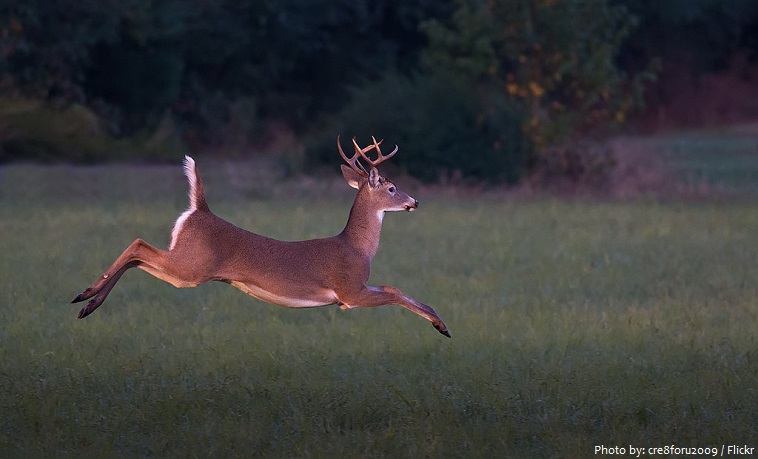Blackbuck: (70, 127, 461, 341)
